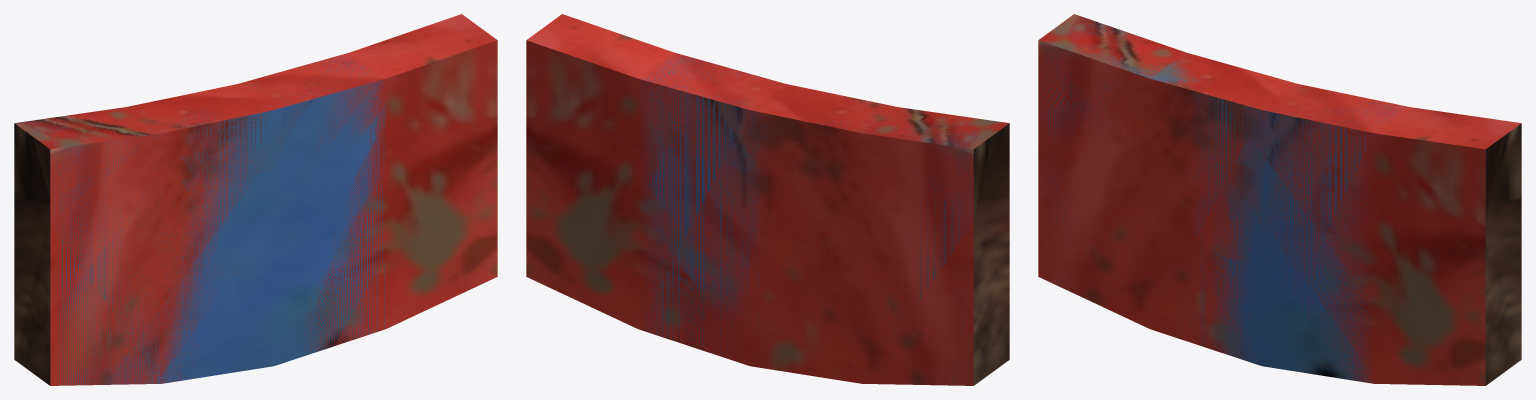
Rendered from Fence_Flag.fbx.
The picture shows the model from 3 angles, left to right: view 1: azimuth 30°, elevation 25°; view 2: azimuth 150°, elevation 25°; view 3: azimuth 330°, elevation 25°; orthographic projection.
Parts seen in each view (by area): view 1: Fence_Flag_V1, Fence_Flag_V2; view 2: Fence_Flag_V1, Fence_Flag_V2; view 3: Fence_Flag_V1, Fence_Flag_V2.
Boxes of the visible parts, x1,y1,x2,y2 form: Fence_Flag_V1: (14,14,497,385); Fence_Flag_V2: (14,55,385,385); Fence_Flag_V1: (526,14,1009,385); Fence_Flag_V2: (640,56,1009,385); Fence_Flag_V1: (1038,14,1521,385); Fence_Flag_V2: (1039,18,1521,383).
Bounding box in the file's own units: 175 × 101 × 24.25.
